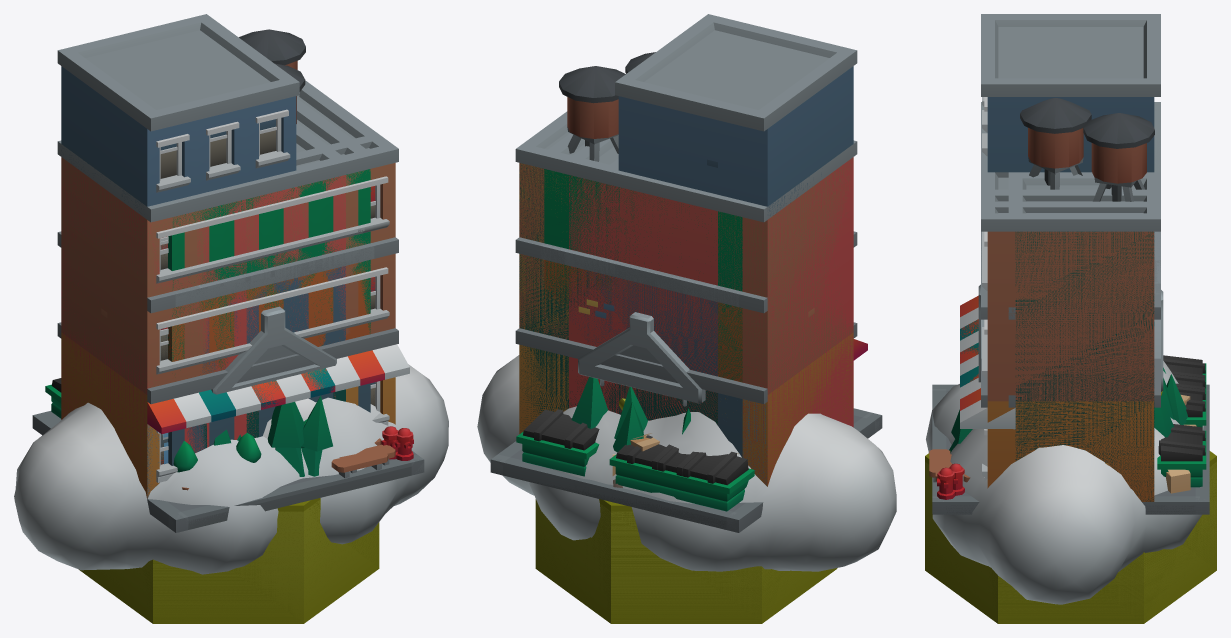
The model's file is burgo.glb.
3 views of the same model, side by side, from view 1: azimuth 30°, elevation 25°; view 2: azimuth 150°, elevation 25°; view 3: azimuth 270°, elevation 25° (orthographic). The views are drawn at different scales.
Parts seen in each view (by area): view 1: building_e, cloud_big, building_h, hex_grass, building_d, building_f, building_b, building_c, building_a, hex_grass_bottom, crypt, building_g (+5 smaller); view 2: building_h, building_e, cloud_big, building_f, building_c, hex_grass, building_d, hex_grass_bottom, building_a, building_g, building_b, crypt (+4 smaller); view 3: building_e, building_h, cloud_big, building_g, hex_grass, hex_grass_bottom, building_d, building_c, building_a, road_straight, base, building_f (+4 smaller).
Boxes of the visible parts, x1,y1,x2,y2 form: building_e: (58, 81, 409, 498); cloud_big: (14, 364, 448, 574); building_h: (45, 14, 395, 497); hex_grass: (80, 500, 379, 623); building_d: (168, 63, 388, 478); building_f: (58, 81, 398, 490); building_b: (168, 246, 374, 465); building_c: (173, 123, 349, 472); building_a: (197, 252, 398, 459); hex_grass_bottom: (82, 498, 379, 623); crypt: (211, 306, 336, 394); building_g: (147, 82, 413, 498); building_h: (518, 14, 857, 511); building_e: (515, 112, 867, 486); cloud_big: (477, 355, 896, 571); building_f: (515, 111, 856, 483); building_c: (565, 135, 717, 423); hex_grass: (535, 499, 837, 623); building_d: (540, 52, 742, 381); hex_grass_bottom: (535, 499, 823, 623); building_a: (565, 252, 717, 425); building_g: (516, 119, 854, 505); building_b: (540, 244, 742, 499); crypt: (578, 312, 705, 406); building_e: (960, 103, 1206, 501); building_h: (935, 14, 1206, 493); cloud_big: (926, 361, 1203, 604); building_g: (937, 172, 1205, 501); hex_grass: (925, 462, 1216, 623); hex_grass_bottom: (925, 451, 1216, 623); building_d: (929, 98, 1160, 482); building_c: (981, 151, 1160, 283); building_a: (949, 231, 1160, 495); road_straight: (932, 384, 1209, 514); base: (932, 385, 1209, 514); building_f: (963, 110, 1160, 482).
Bounding box in the file's own units: 19.73 × 23.77 × 12.63.
